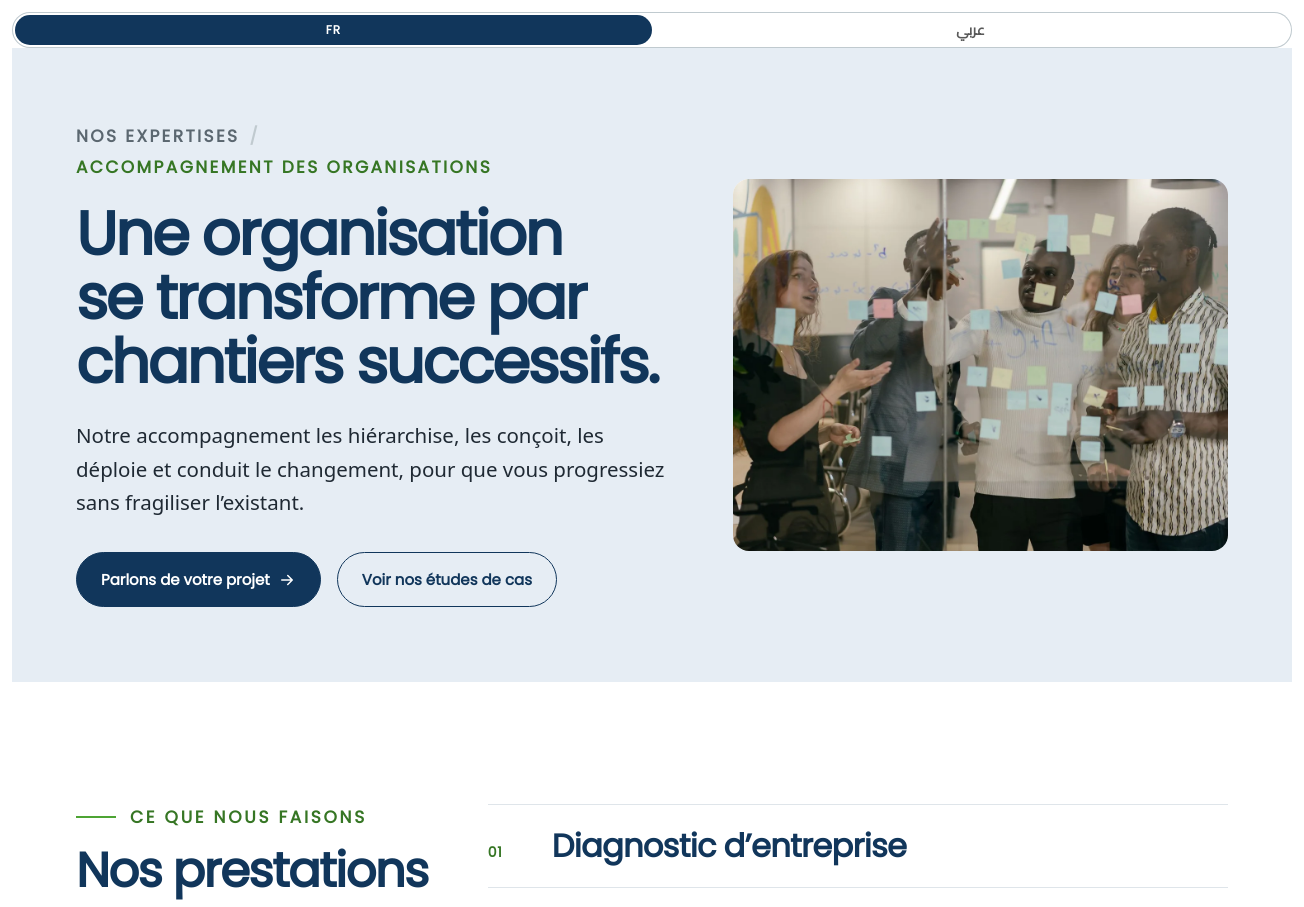
Test: Pages des domaines d’expertise › passe en arabe
The width and height of the screenshot is (1304, 907).
What coordinates should you click on to do the following:
click the button "عربي"
I would click on:
 (970, 30)
Its box is [652,15,1289,45].
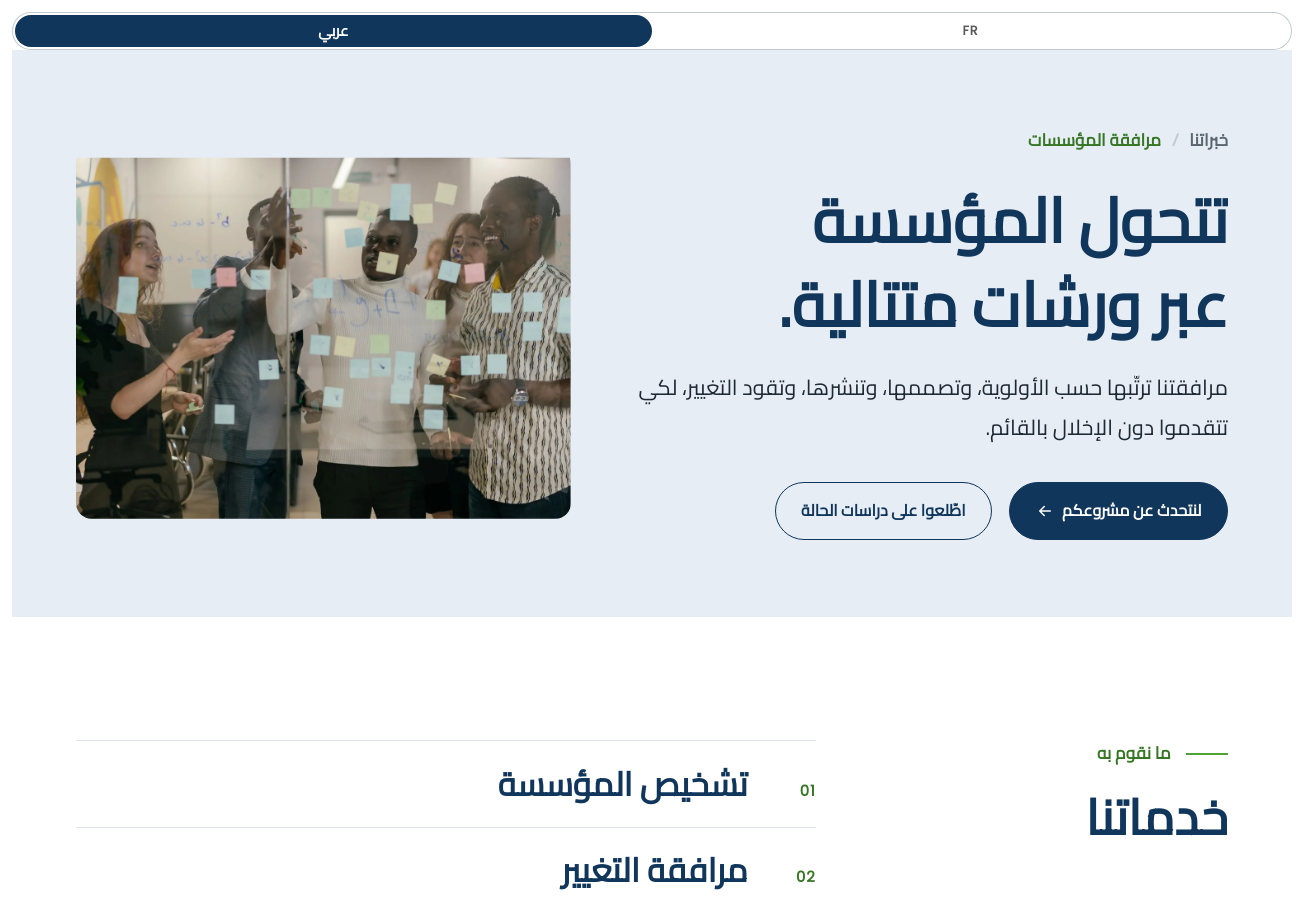
Now the heading "تتحول المؤسسة عبر ورشات متتالية." is shown, box [778,162,1228,363]
